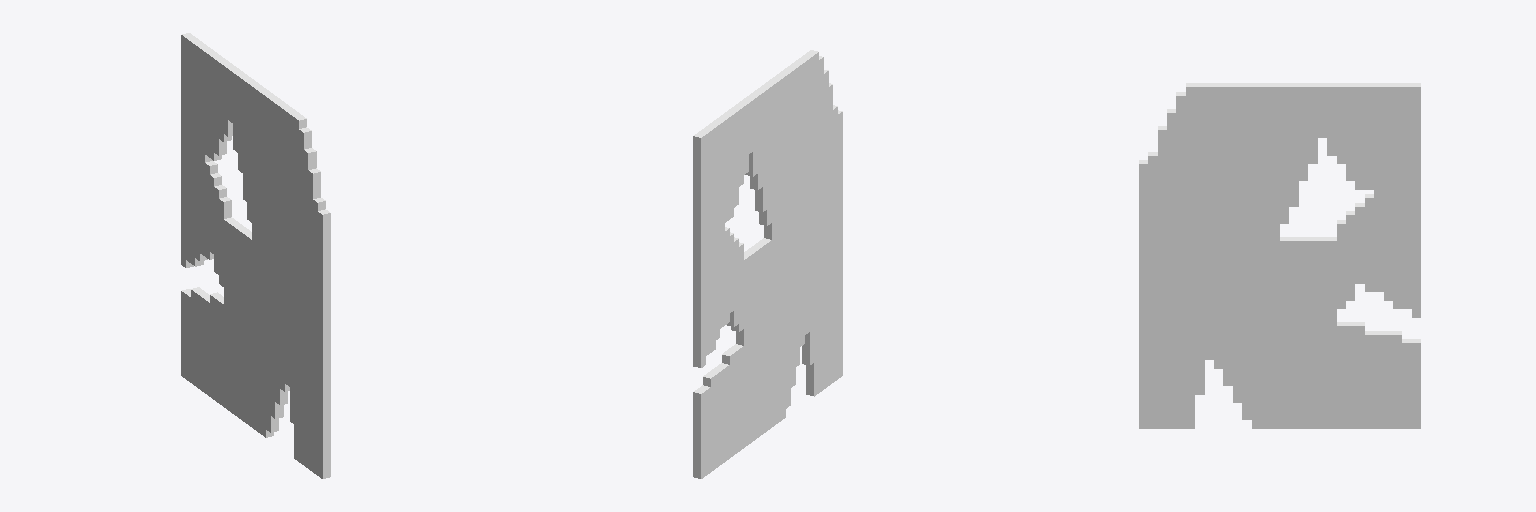
Rendered from paper_old_2.obj.
3 views of the same model, side by side, from view 1: azimuth 30°, elevation 25°; view 2: azimuth 150°, elevation 25°; view 3: azimuth 270°, elevation 25° (orthographic).
Visible parts, largest first — view 1: object 1; view 2: object 1; view 3: object 1.
Boxes of the visible parts, x1,y1,x2,y2 form: object 1: [181, 33, 330, 478]; object 1: [693, 50, 842, 478]; object 1: [1139, 83, 1420, 428].
Bounding box in the file's own units: 0.1 × 4 × 3.